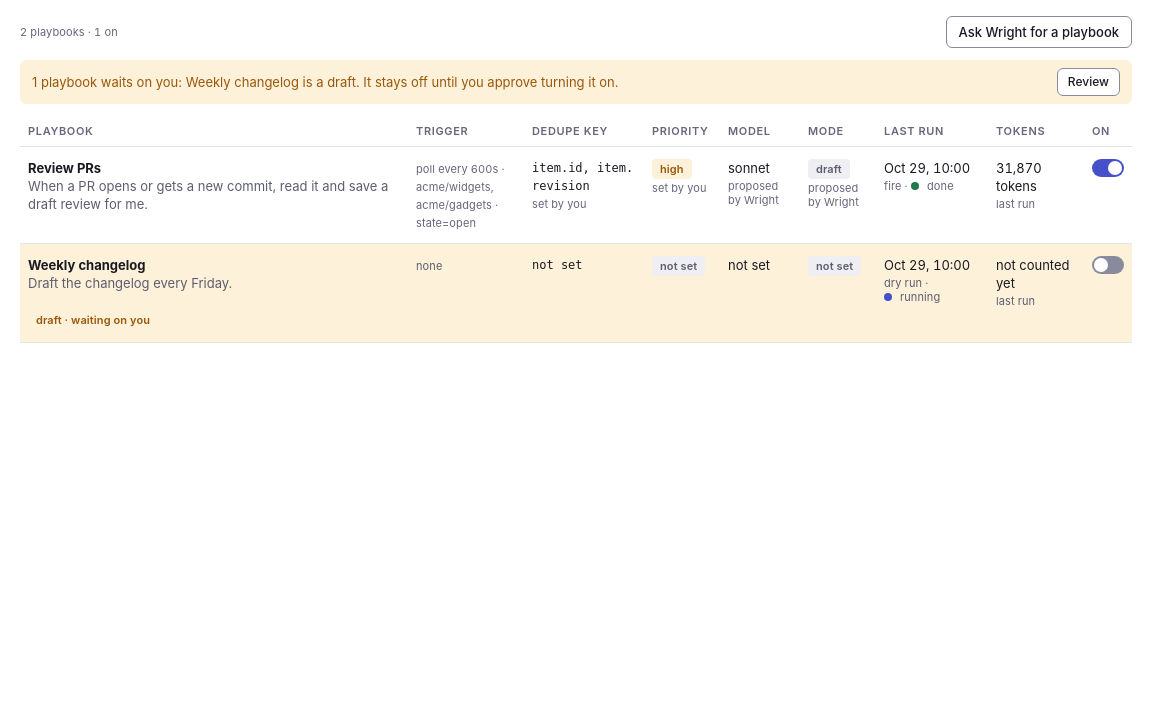
it: AC4: every field, who set it, and 'not set' › a priority or mode with no setter reads 'not set' in the detail and the edit view, with no setter tag
Click the button with test id "playbook-open" that starts with "Weekly changelog" at x=214, y=283, box [28, 256, 400, 310]
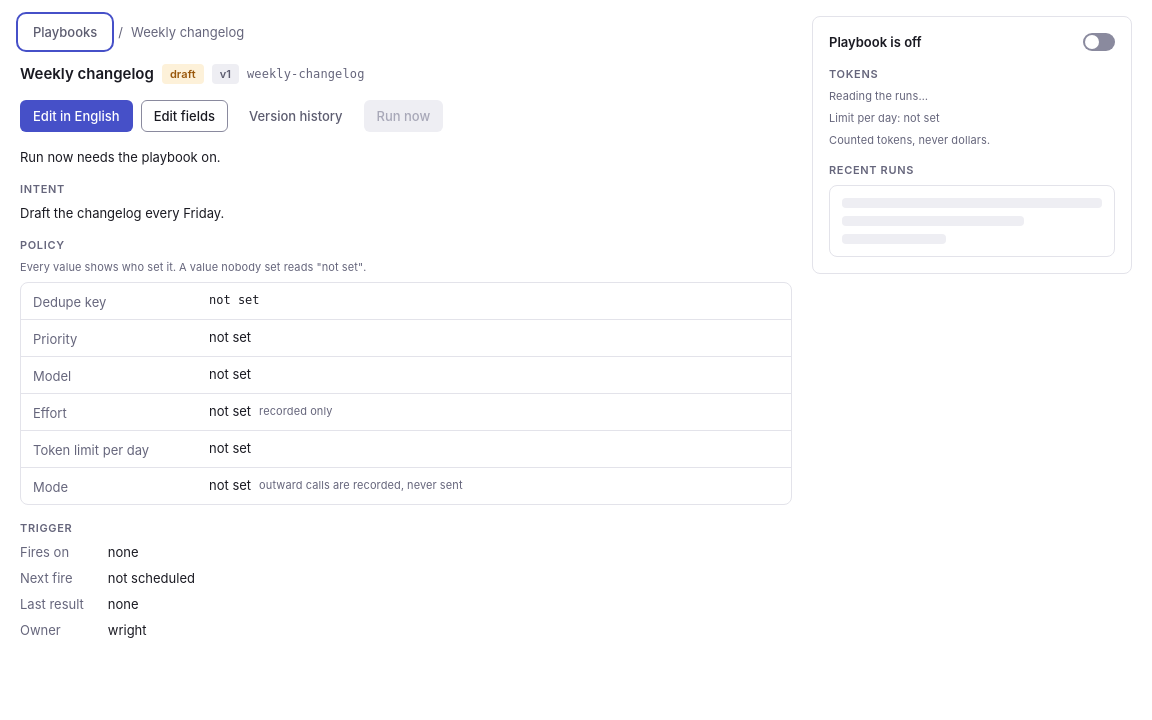
Expected: the element with test id "playbook-detail" is shown
Click the button with test id "playbook-edit-fields" at x=184, y=116, box [141, 100, 228, 132]
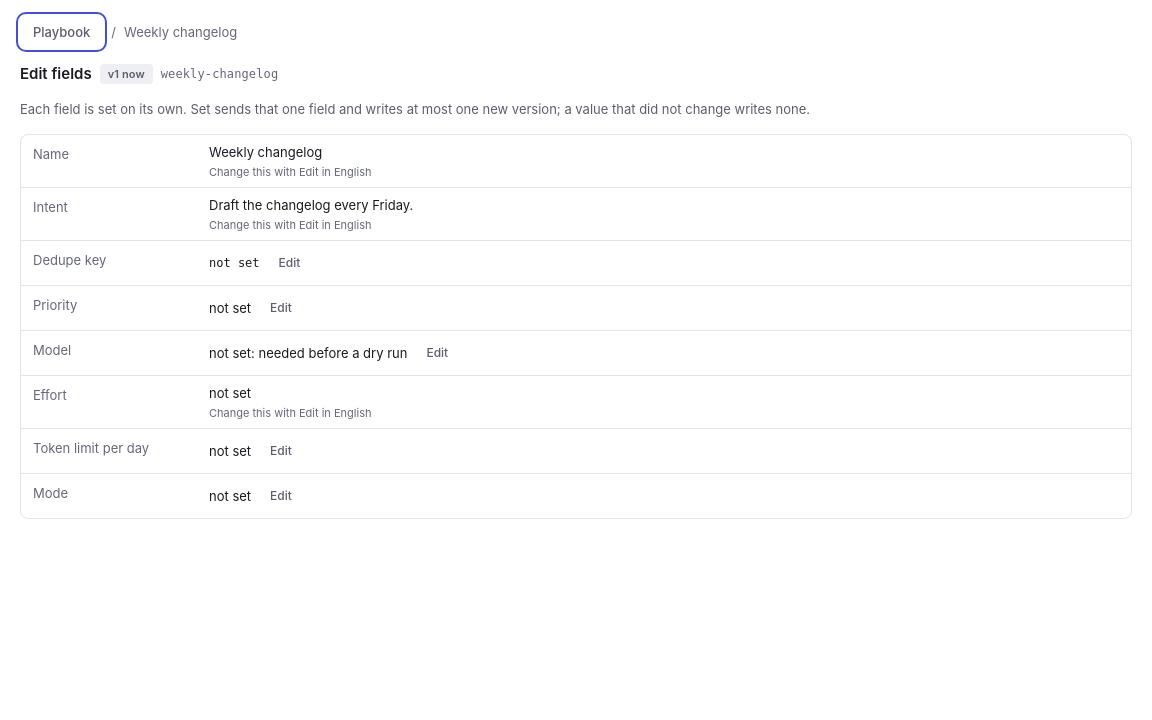
Expected: the text "not set" next to "Priority" is shown, [209, 300, 251, 316]
Expected: the element with test id "playbook-edit" is shown
